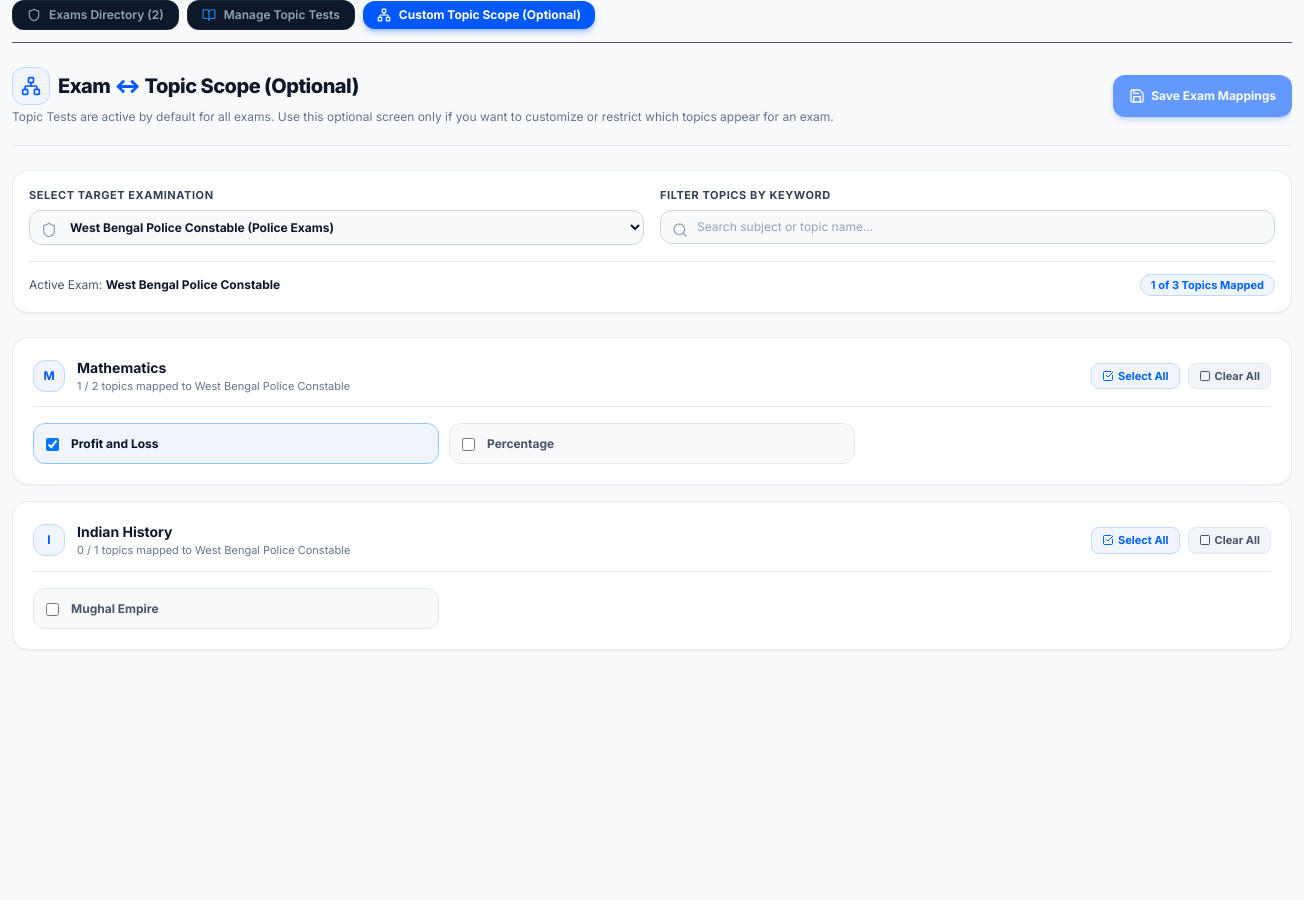
Test: AdminExamTopics Integration & Navigation › allows toggling topics and saving custom topic mappings
Expected: the text "Profit and Loss" is shown, [71,436,158,451]
Note: Toggle Percentage
Click the text "Percentage". click: coordinates (521, 444)
box: [487,436,554,451]
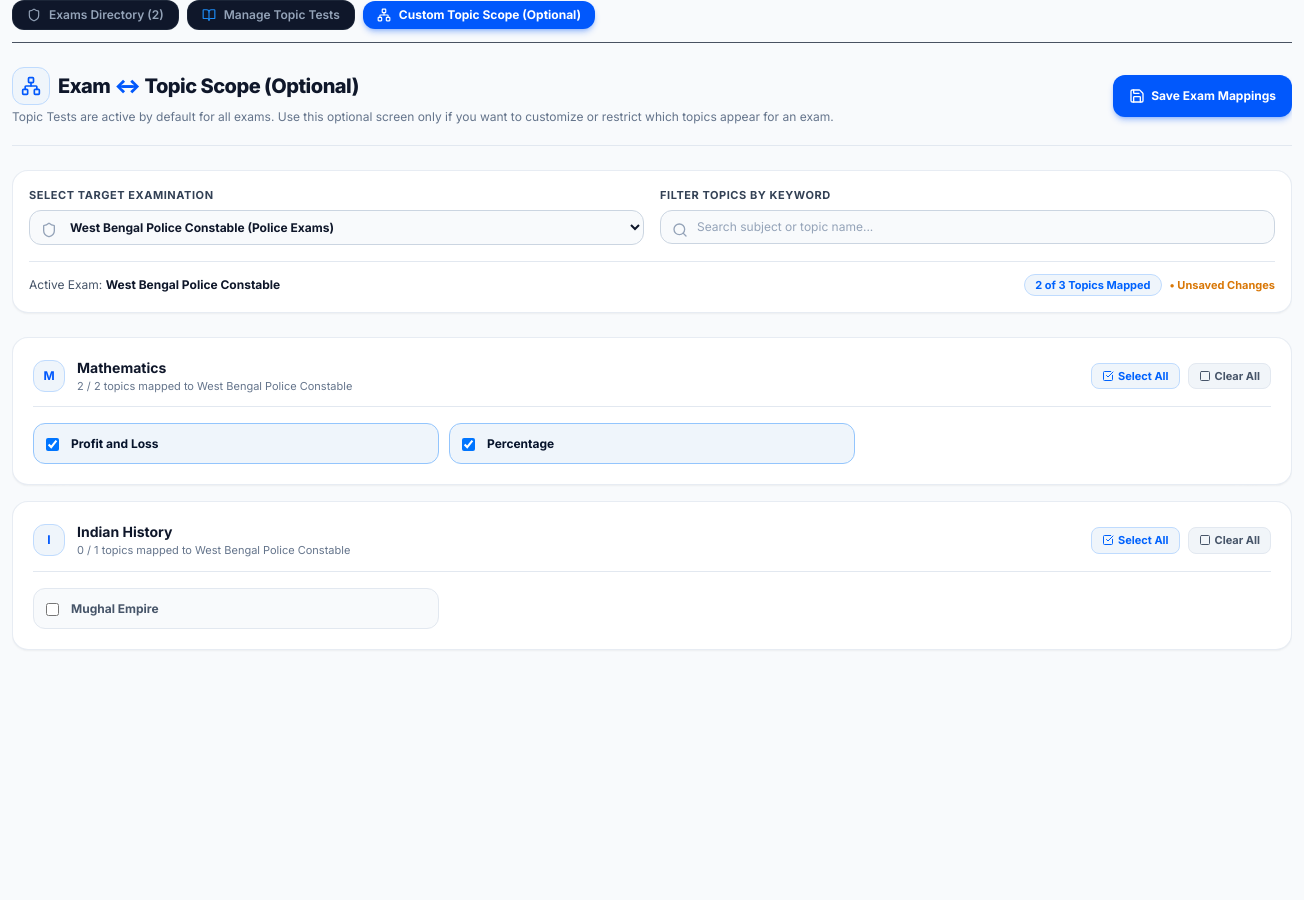
Expected: the button "Save Exam Mappings" is enabled
Click the button "Save Exam Mappings". click: coordinates (1203, 96)
box: [1113,75,1292,117]
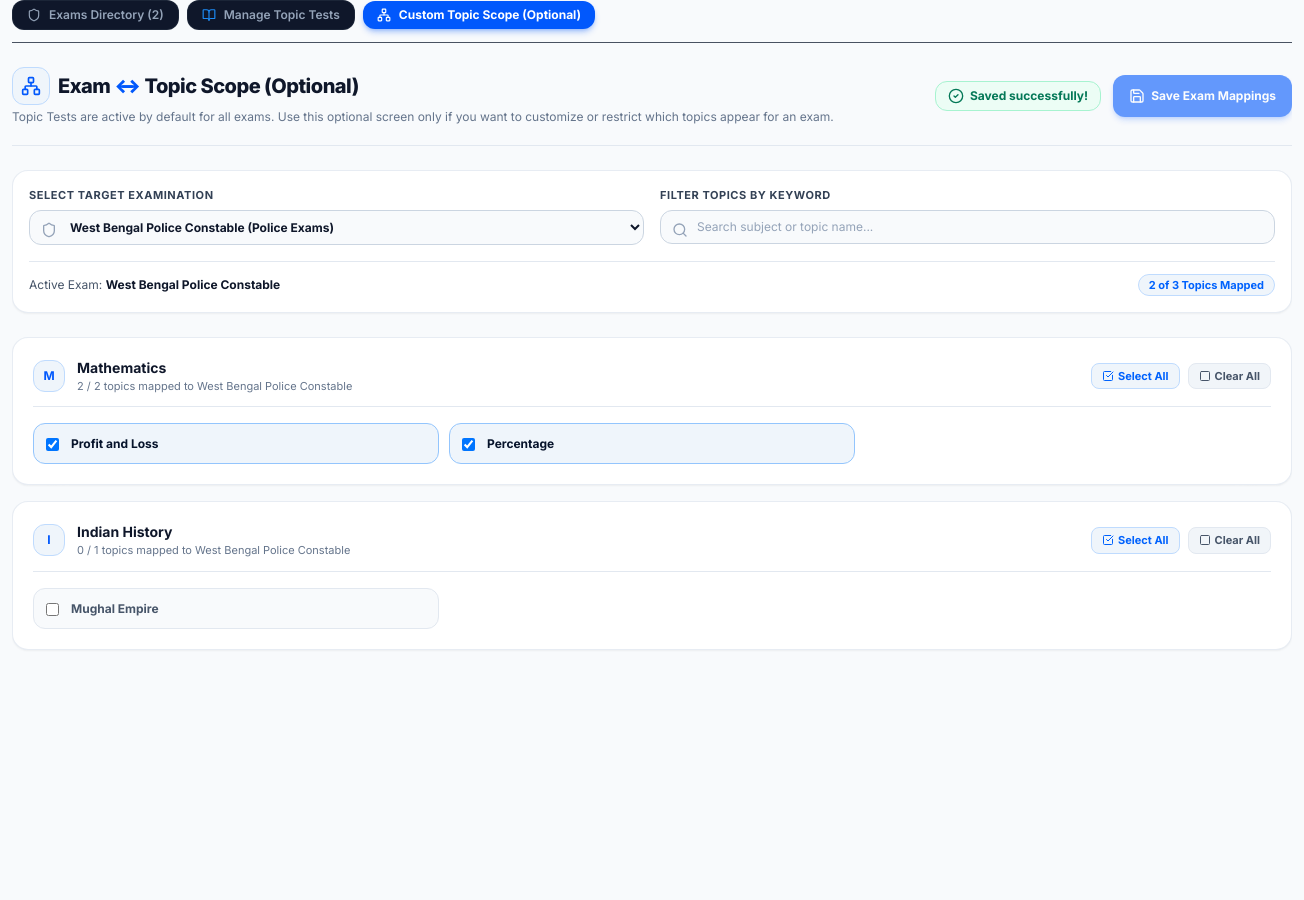
Expected: the text "Saved successfully!" is shown, [935,81,1101,111]
